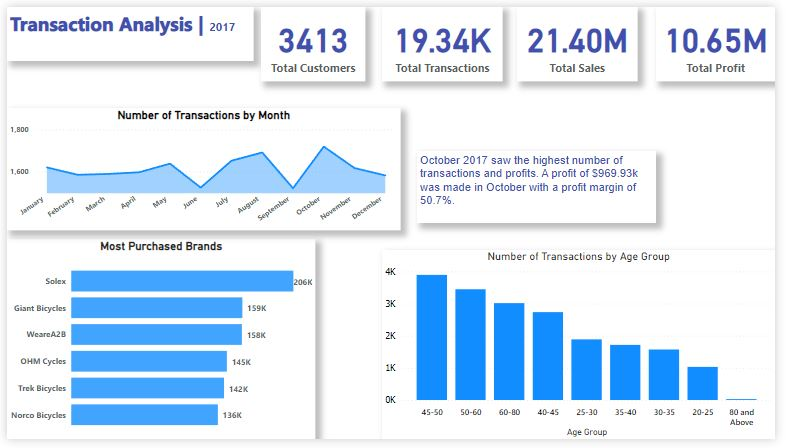

This screenshot's page, from the dashboard's own definition file:
{"tool":"powerbi","page":{"name":"Transactions Analysis","canvas":[1280,720],"ordinal":2},"visuals":[{"type":"clusteredBarChart","title":"Most Purchased Brands","fields":{"Y":["Sum(Working Dataset.Quantity Purchased)"],"Category":["Working Dataset.brand"]},"box":[0,386.4,514,334.3],"z":0},{"type":"clusteredColumnChart","title":"Number of Transactions by Age Group","fields":{"Category":["Working Dataset.Age Group"],"Y":["CountNonNull(Working Dataset.transaction_id)"]},"box":[624.3,404.3,655.7,315.7],"z":1000},{"type":"card","title":"Number of Transactions","fields":{"Values":["CountNonNull(Working Dataset.transaction_id)"]},"box":[624.3,0,201.4,124.3],"z":2000},{"type":"areaChart","title":"Number of Transactions by Month","fields":{"Category":["Working Dataset.transaction_date.Variation.Date Hierarchy.Year","Working Dataset.transaction_date.Variation.Date Hierarchy.Quarter","Working Dataset.transaction_date.Variation.Date Hierarchy.Month","Working Dataset.transaction_date.Variation.Date Hierarchy.Day"],"Y":["CountNonNull(Working Dataset.transaction_id)"]},"box":[0,168.6,655.7,204.3],"z":3000},{"type":"textbox","box":[682.9,240,398.6,120],"z":4000},{"type":"textbox","box":[0,0,411.4,90],"z":5000},{"type":"card","fields":{"Values":["Count(Working Dataset.customer_id)"]},"box":[422.9,0,174.3,124.3],"z":6000},{"type":"card","fields":{"Values":["Sum(Working Dataset.list_price)"]},"box":[850,0,201.4,124.3],"z":7000},{"type":"card","fields":{"Values":["Sum(Working Dataset.Profit)"]},"box":[1081.4,0,198.6,124.3],"z":8000}]}

Visuals, with their boxes in screenshot pixels (x1, y1, x2, y2), scaled from the page's 1280x720 canvas onto the 786x448 screenshot:
"Most Purchased Brands" clusteredBarChart: locate(0, 240, 316, 447)
"Number of Transactions by Age Group" clusteredColumnChart: locate(383, 252, 785, 447)
"Number of Transactions" card: locate(383, 0, 507, 77)
"Number of Transactions by Month" areaChart: locate(0, 105, 403, 232)
textbox: locate(419, 149, 664, 224)
textbox: locate(0, 0, 253, 56)
card - Count(Working Dataset.customer_id): locate(260, 0, 367, 77)
card - Sum(Working Dataset.list_price): locate(522, 0, 646, 77)
card - Sum(Working Dataset.Profit): locate(664, 0, 785, 77)
